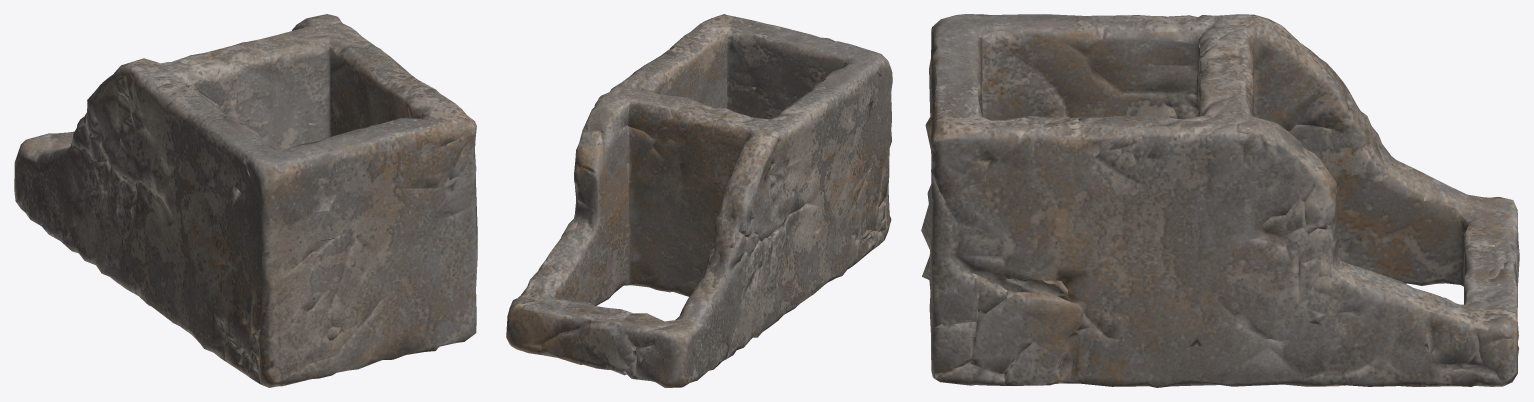
Rendered from SM_Brick_01b.fbx.
3 views of the same model, side by side, from view 1: azimuth 30°, elevation 25°; view 2: azimuth 150°, elevation 25°; view 3: azimuth 270°, elevation 25° (orthographic). The views are drawn at different scales.
Visible parts, largest first — view 1: SM_Brick_01b_LOD0; view 2: SM_Brick_01b_LOD0; view 3: SM_Brick_01b_LOD0.
Boxes of the visible parts, <box> form: SM_Brick_01b_LOD0: <box>14,14,477,387</box>; SM_Brick_01b_LOD0: <box>506,14,892,387</box>; SM_Brick_01b_LOD0: <box>921,14,1519,387</box>.
Size of the model in its own units: 19.86 by 39.78 by 19.39.
